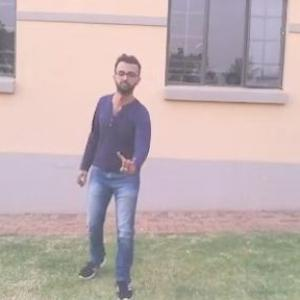takeoff-hand: (112, 144, 140, 176)
